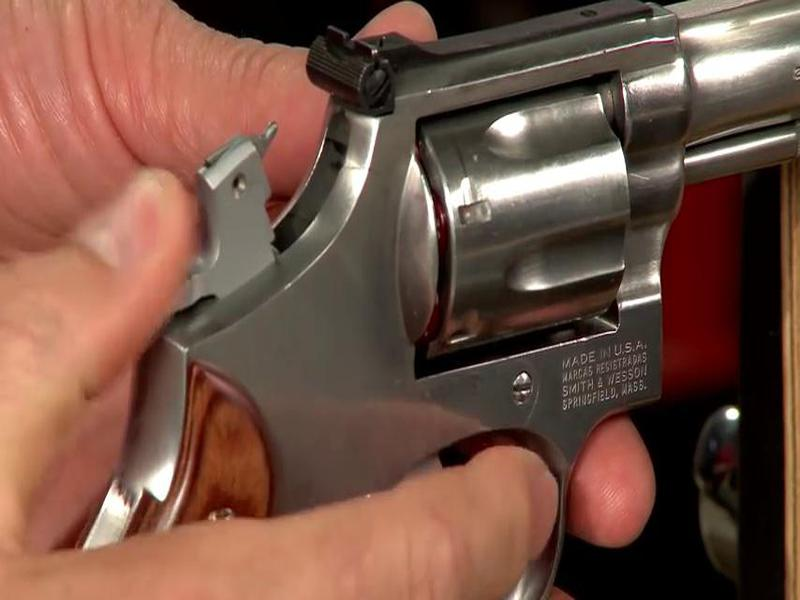Revolver: (131, 1, 800, 512)
